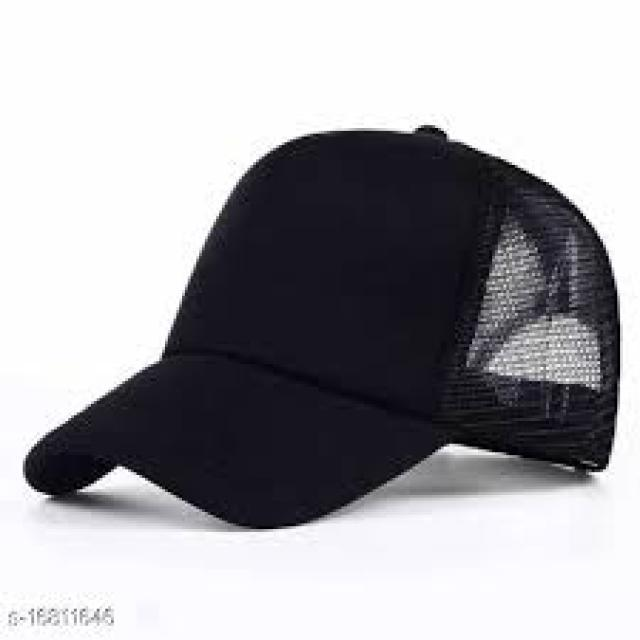cap: (3, 99, 640, 554)
